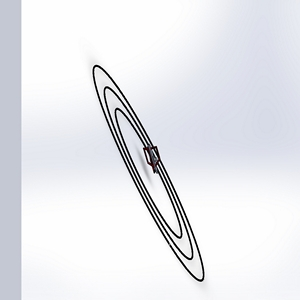circle: (66, 58, 216, 291)
submarine: (139, 141, 165, 176)
